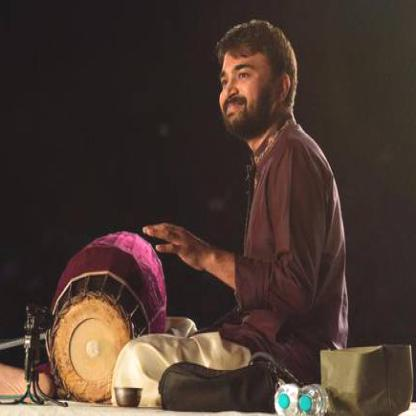Mridangam: (47, 222, 172, 403)
